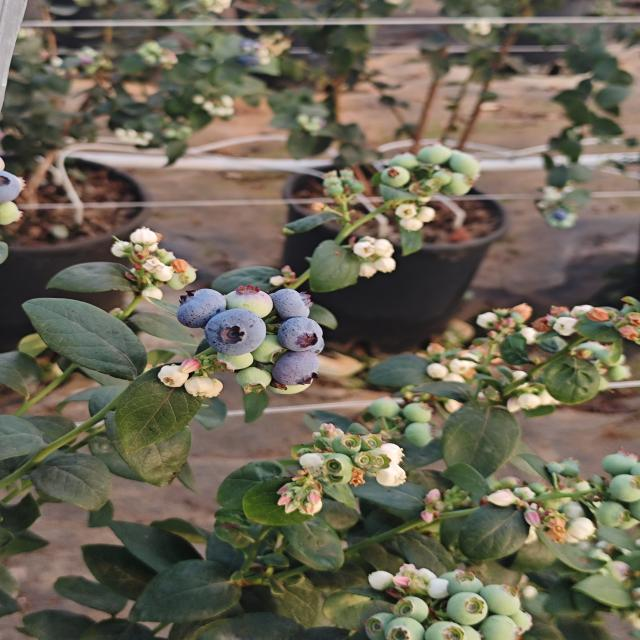ripe: (202, 307, 268, 358), (272, 350, 320, 386), (273, 320, 327, 350), (176, 290, 223, 324), (273, 288, 311, 325)
